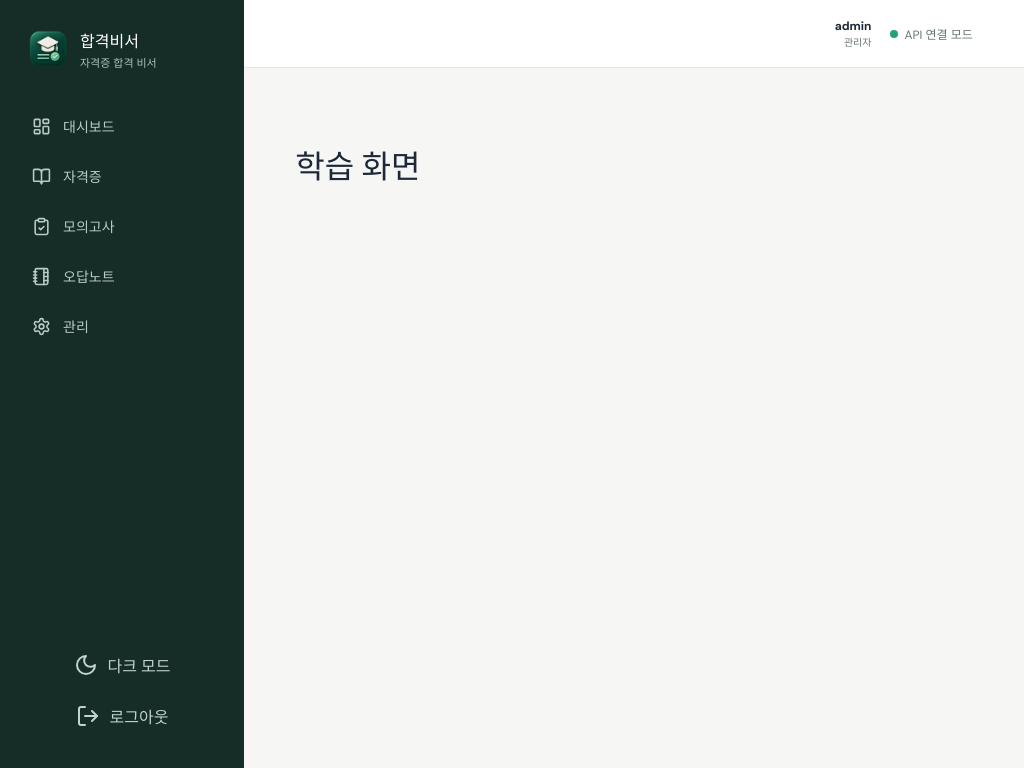
it: Study exit guard › keeps the study open and reports a save failure
The image size is (1024, 768).
Click the link "대시보드".
click(73, 126)  # box [32,116,114,136]
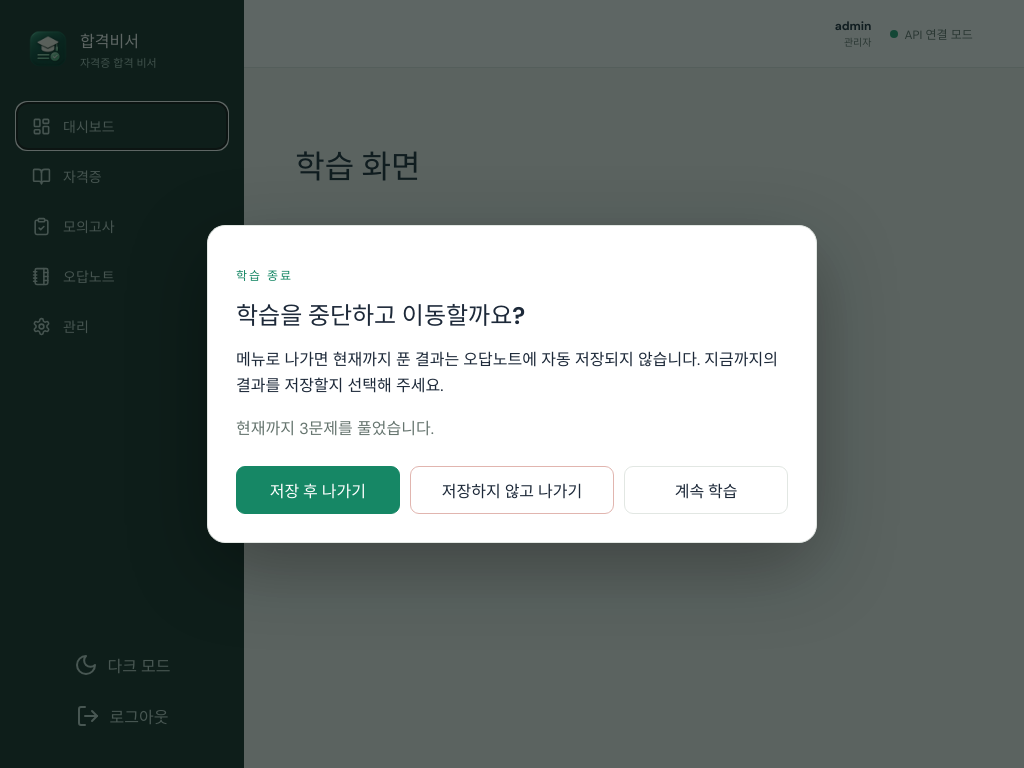
Click the button "저장 후 나가기".
click(318, 490)  # box [236,466,400,514]
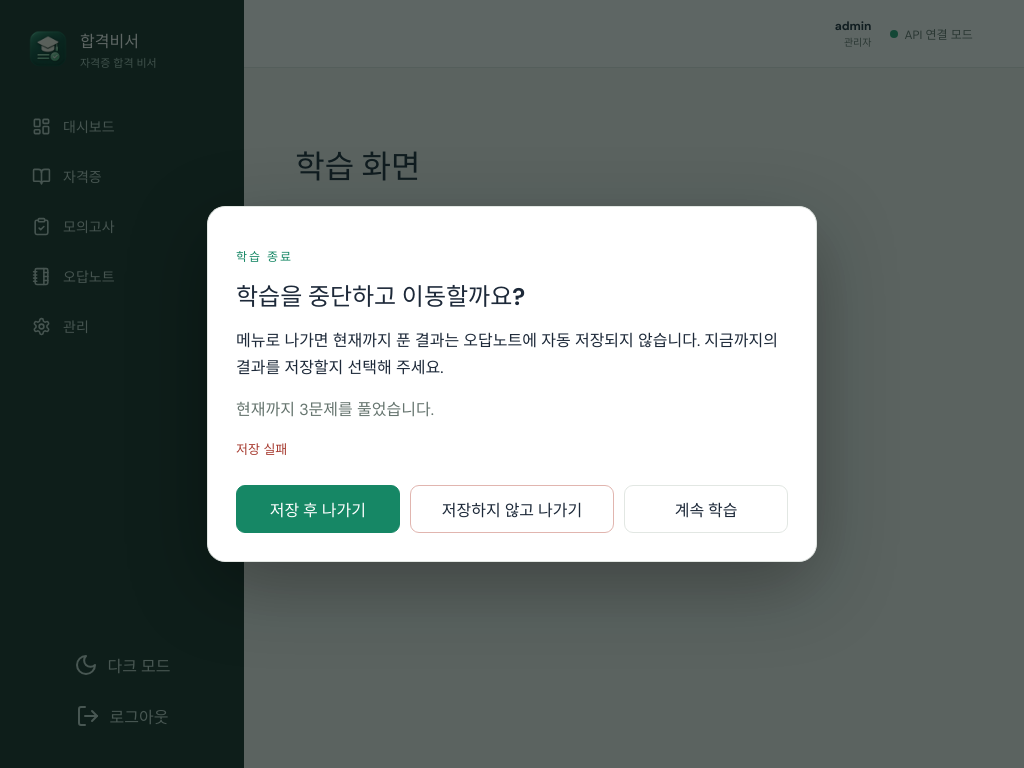
Expected: the heading "학습 화면" is shown, [295,146,420,188]
Now the message reads "저장 실패", box [236,441,287,458]
